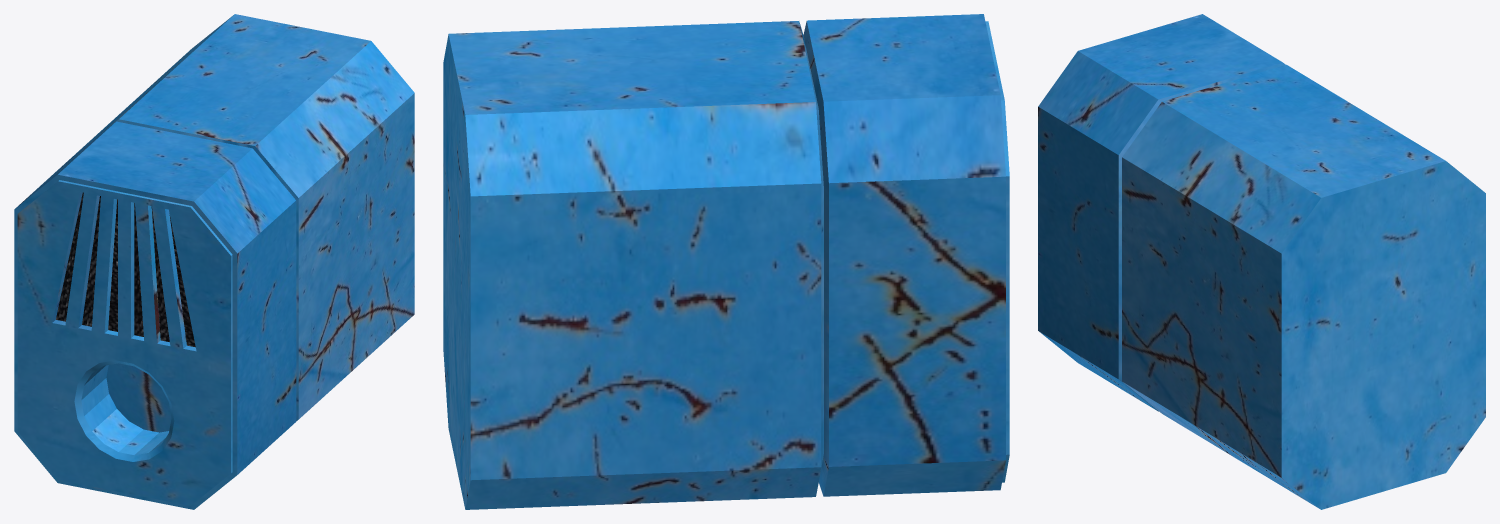
File: BoilerRoom_waterPumped_w_Textures.fbx
3 renders of one model, left to right at view 1: azimuth 30°, elevation 25°; view 2: azimuth 150°, elevation 25°; view 3: azimuth 270°, elevation 25°, orthographic. The views are drawn at different scales.
Parts seen in each view (by area): view 1: WaterPump001; view 2: WaterPump001; view 3: WaterPump001.
Boxes of the visible parts, left/top/right/bottom form: WaterPump001: left=14, top=14, right=414, bottom=509; WaterPump001: left=443, top=14, right=1009, bottom=509; WaterPump001: left=1038, top=14, right=1485, bottom=509.
Size of the model in its own units: 34.95 by 24.52 by 31.88.
